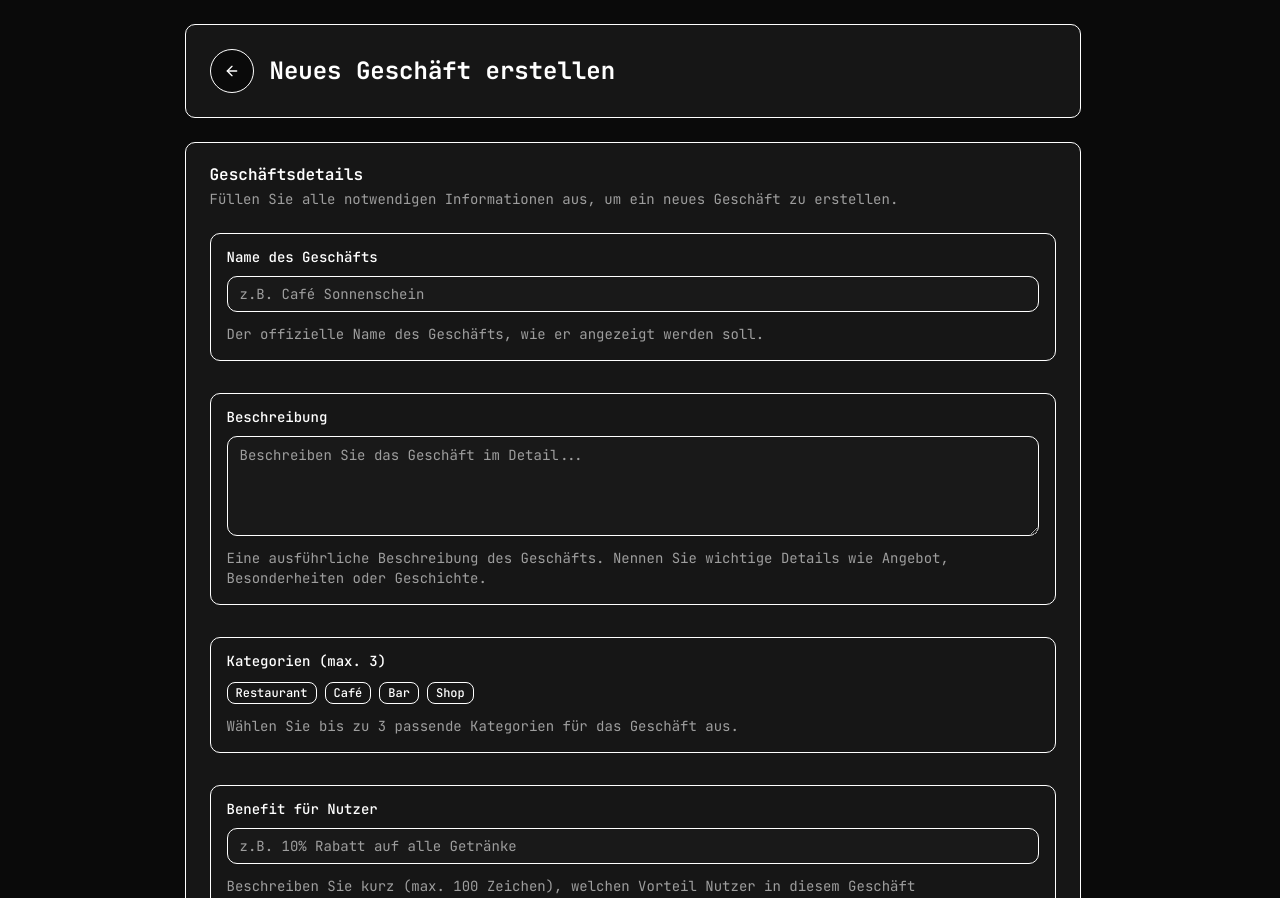
it: CreateBusiness Component › Category and Keyword Selection › sollte maximal 3 Kategorien auswählen können
# Wähle 3 Kategorien aus
Click the text "Restaurant": [272, 693] box [226,682,316,704]
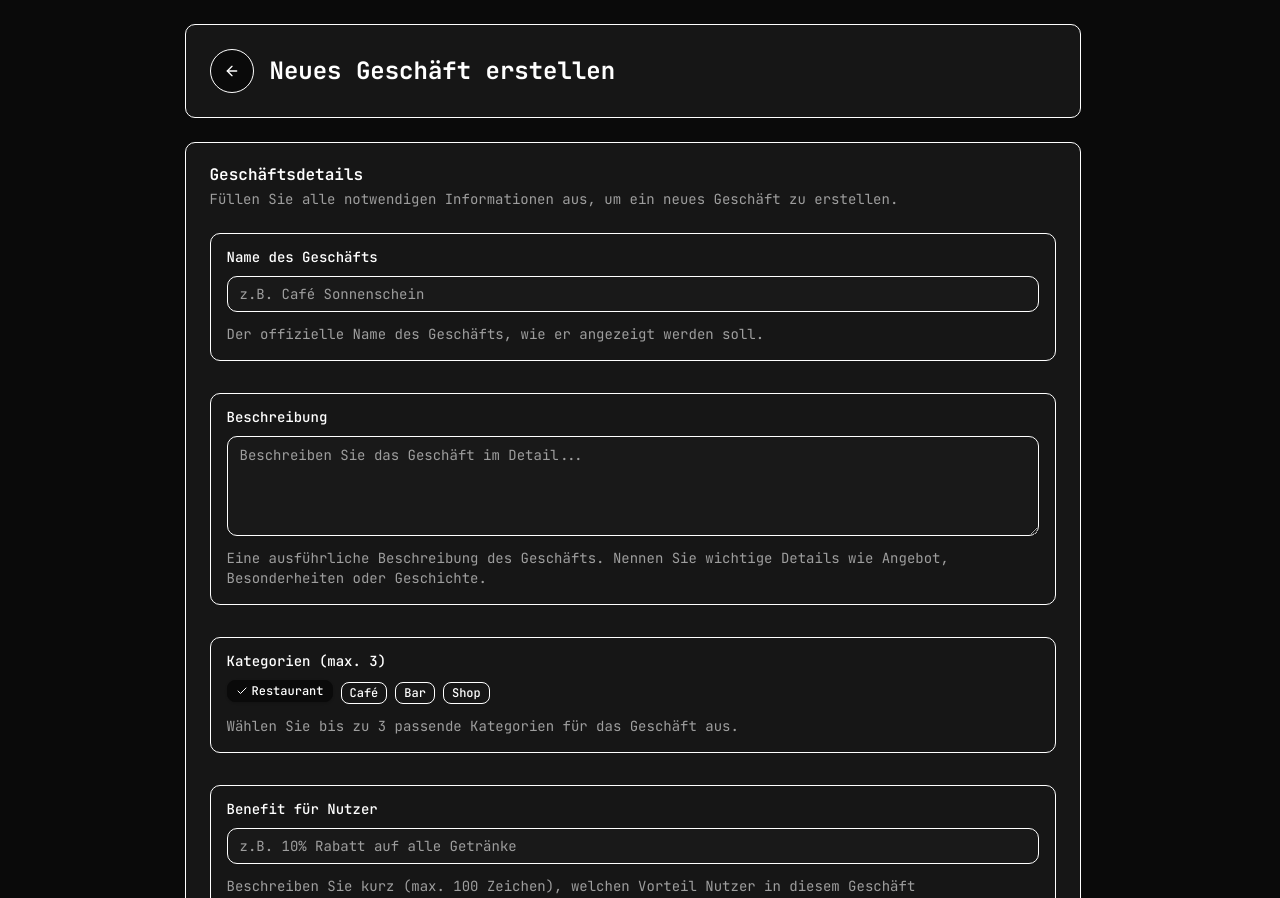
Click the text "Café": [364, 693] box [340,682,387,704]
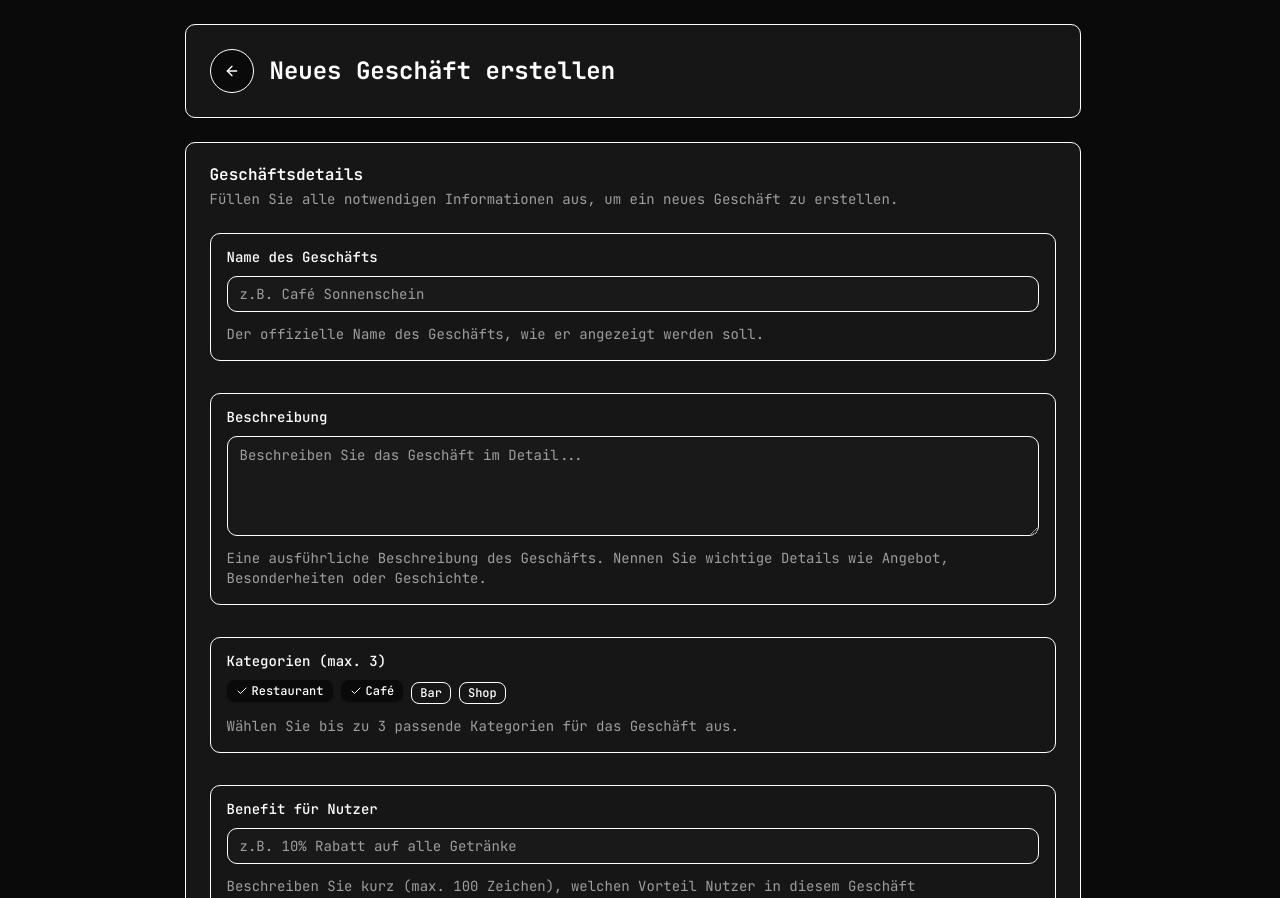
Click the text "Bar": [431, 693] box [411,682,451,704]
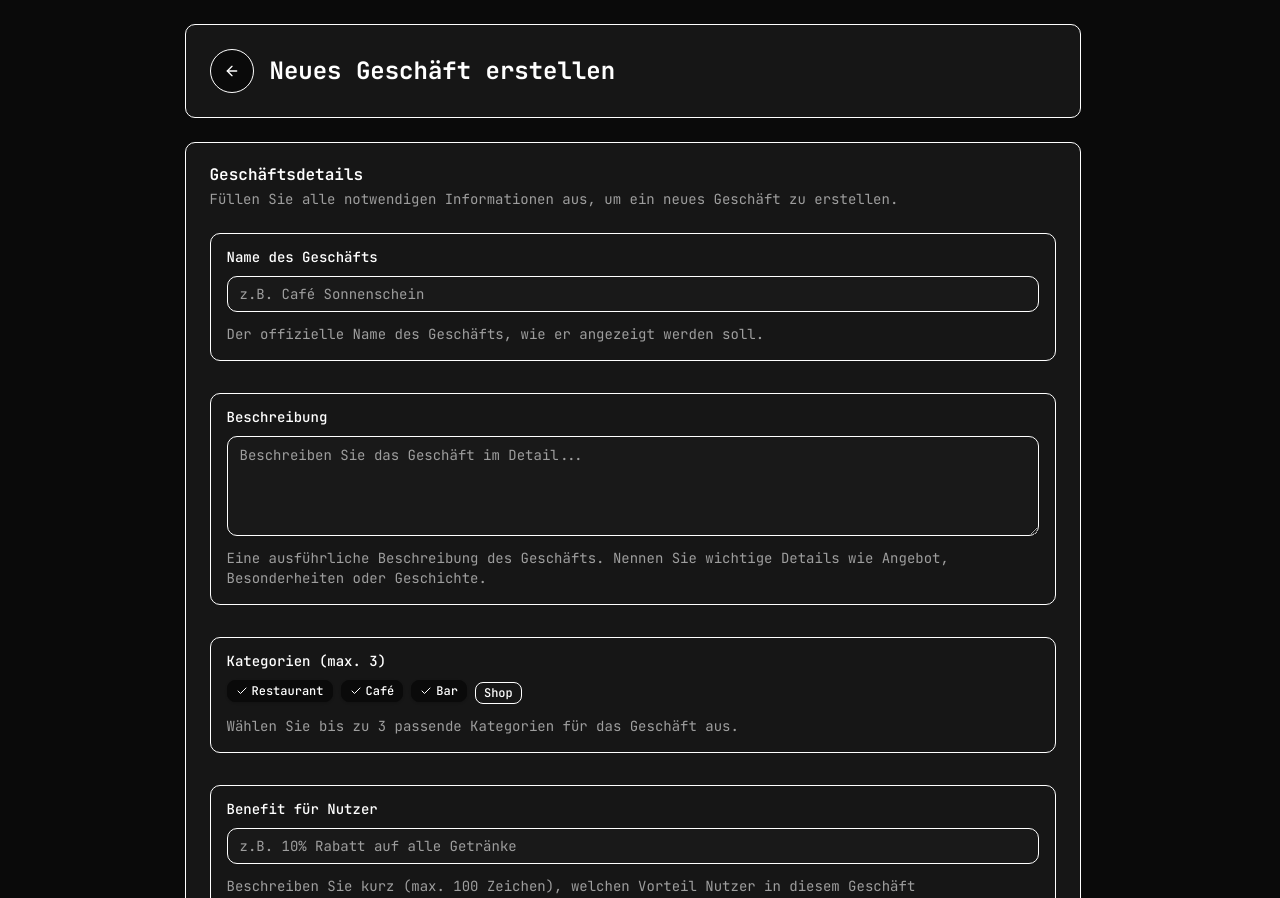
# Versuche 4. Kategorie auszuwählen
Click the text "Shop": [498, 693] box [475,682,522,704]
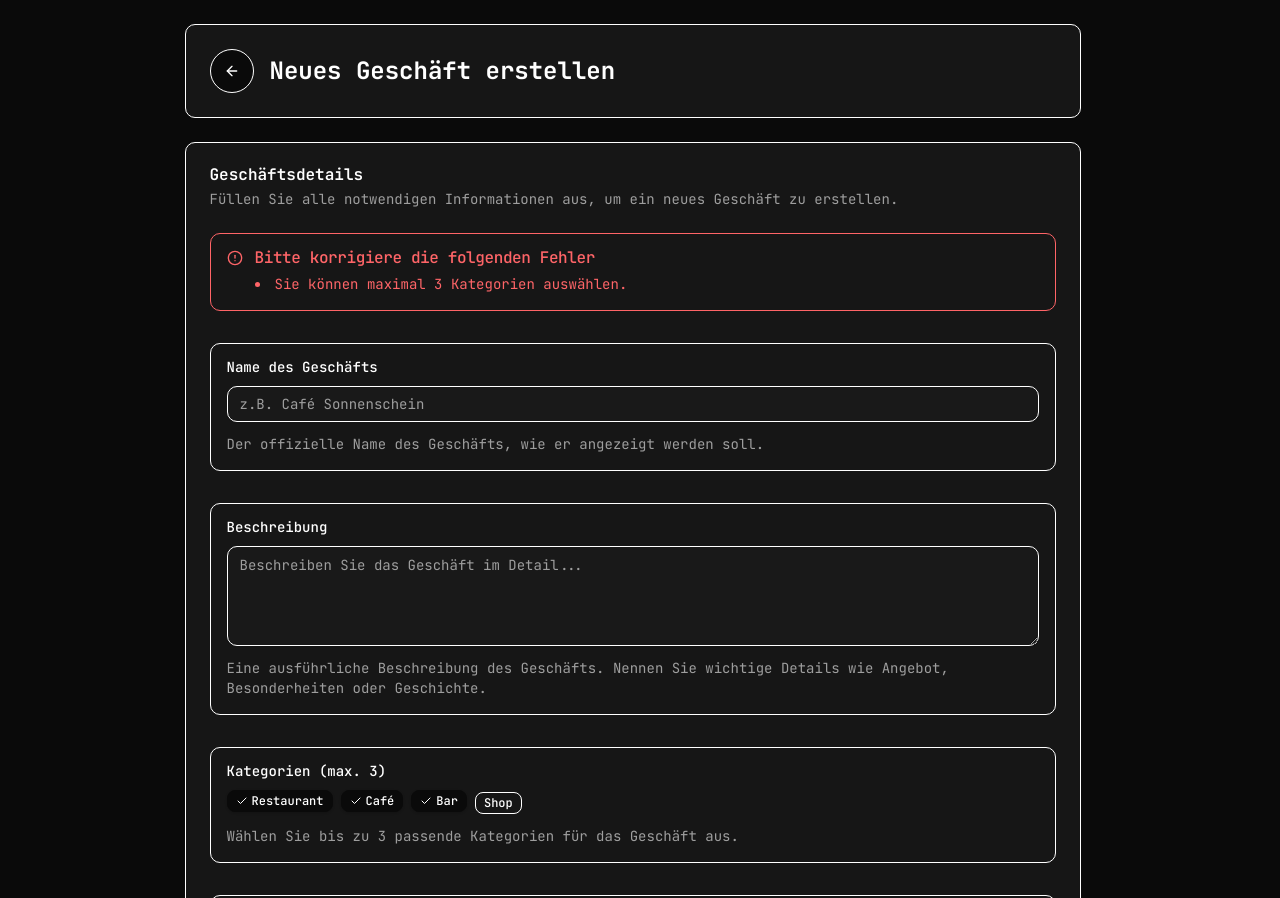
Now the list item "Sie können maximal 3 Kategorien auswählen." is shown, box [274,275,627,293]
